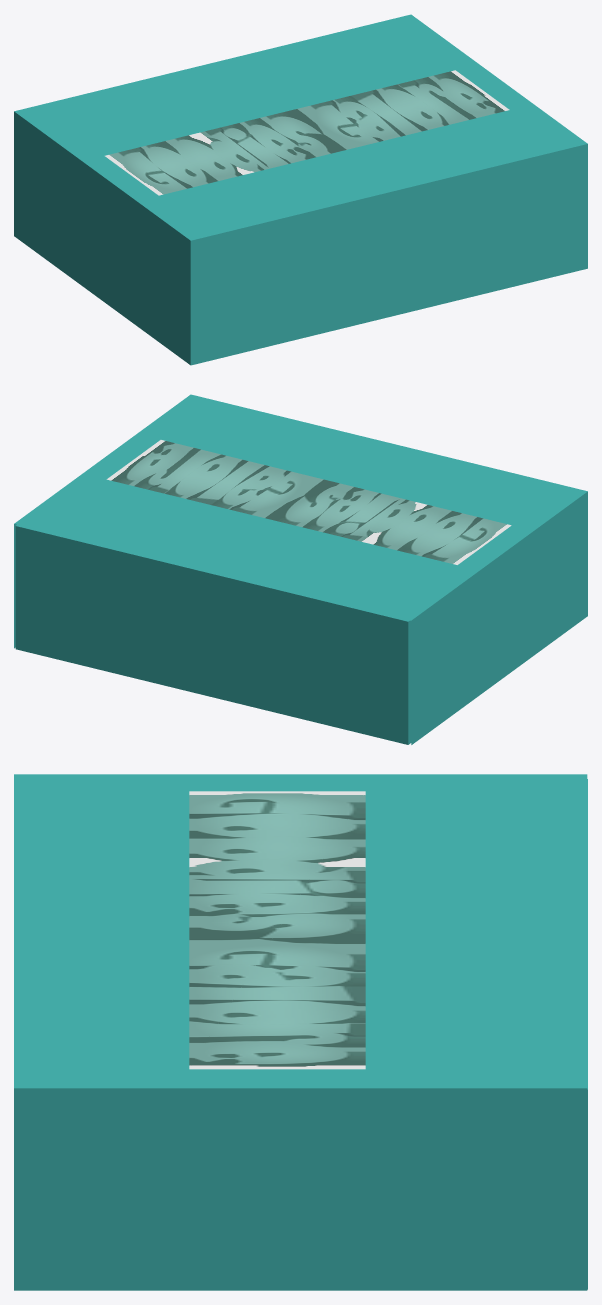
File: Bakery_Box_B_02.FBX
3 renders of one model, top to bottom at view 1: azimuth 30°, elevation 25°; view 2: azimuth 150°, elevation 25°; view 3: azimuth 270°, elevation 25°, orthographic. The views are drawn at different scales.
Visible parts, largest first — view 1: Lid; view 2: Lid, Bakery_Box; view 3: Lid.
Boxes of the visible parts, <box> form: Lid: <box>14,14,587,365</box>; Lid: <box>14,394,587,744</box>; Bakery_Box: <box>15,524,411,744</box>; Lid: <box>14,774,587,1290</box>.
Bounding box in the file's own units: 152 × 45.62 × 117.
